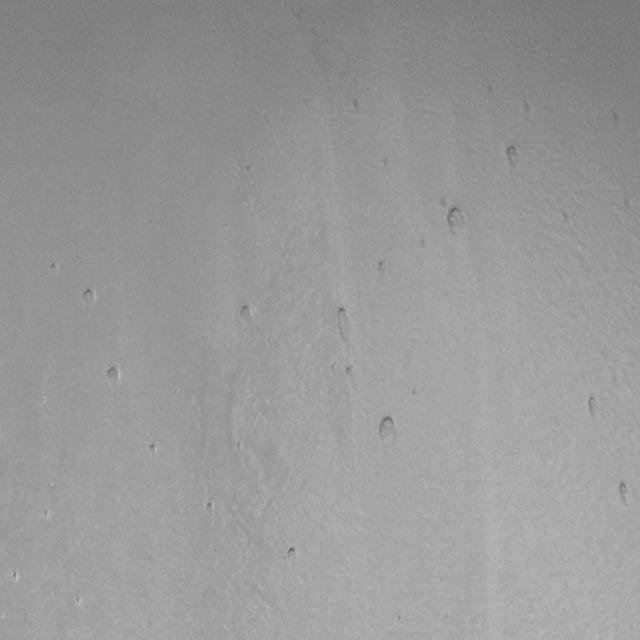pin holes: (329, 304, 356, 344), (375, 415, 401, 448), (444, 206, 470, 238), (584, 392, 605, 423), (236, 300, 259, 326), (103, 363, 125, 390), (502, 144, 523, 172), (616, 480, 636, 509), (78, 286, 99, 312), (282, 543, 302, 568), (202, 499, 217, 519), (417, 234, 432, 254), (611, 110, 622, 135), (376, 258, 389, 278), (41, 507, 56, 524), (48, 260, 62, 278), (148, 440, 162, 458), (521, 99, 533, 120), (437, 193, 451, 210), (344, 362, 357, 380), (242, 160, 256, 176), (71, 593, 84, 609), (10, 569, 22, 586), (234, 439, 246, 454), (380, 156, 392, 170)
